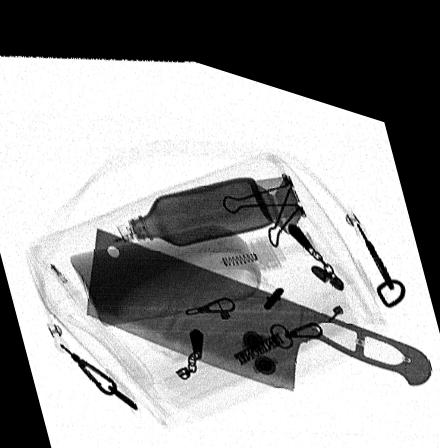Knife: (84, 219, 430, 373)
